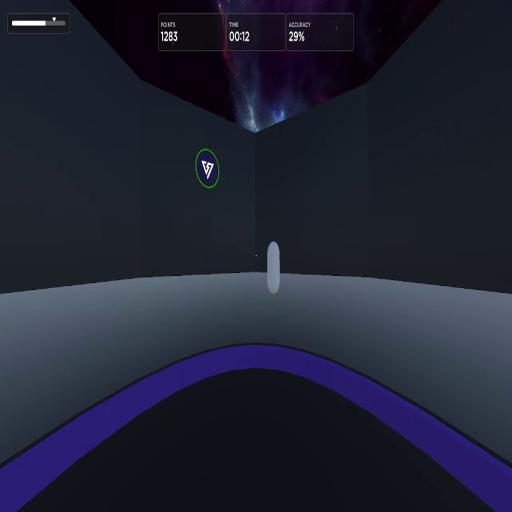Crosshair: (255, 254, 257, 257)
Target: (267, 240, 280, 295)
